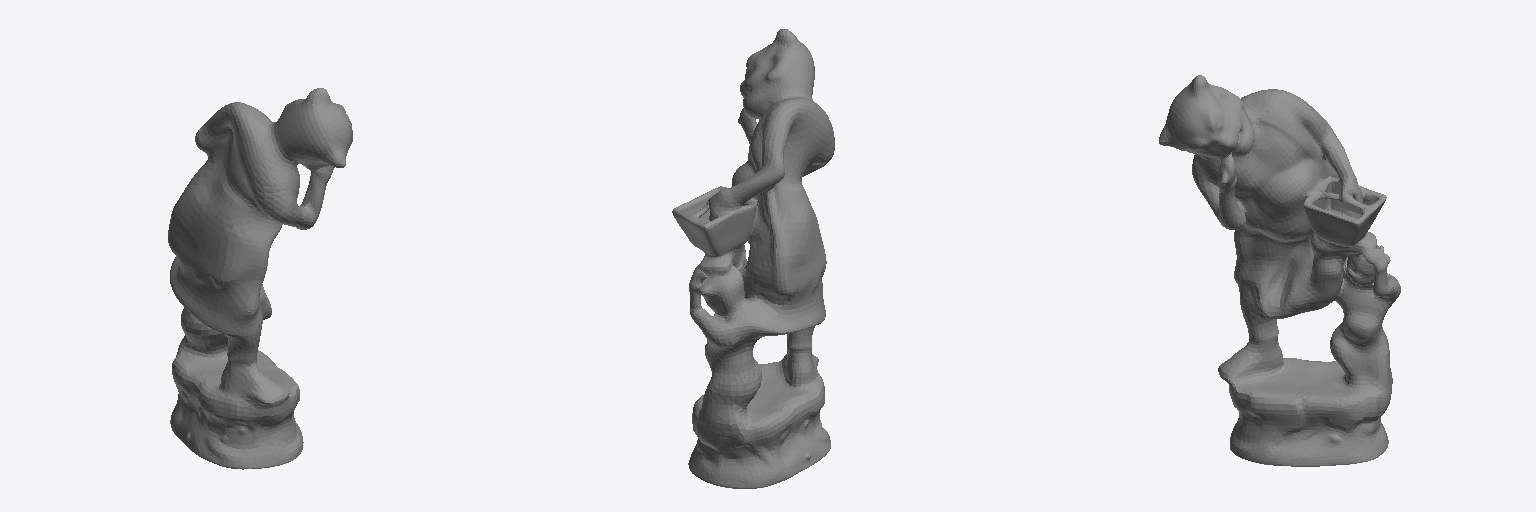
3 renders of one model, left to right at view 1: azimuth 30°, elevation 25°; view 2: azimuth 150°, elevation 25°; view 3: azimuth 270°, elevation 25°, orthographic.
Parts seen in each view (by area): view 1: SZB_YS_06; view 2: SZB_YS_06; view 3: SZB_YS_06.
Part boxes in pixels (x1,y1,x2,y2): SZB_YS_06: (168,88,352,469); SZB_YS_06: (672,29,834,488); SZB_YS_06: (1159,75,1400,466).
Size of the model in its own units: 4.04 by 12.73 by 7.3.